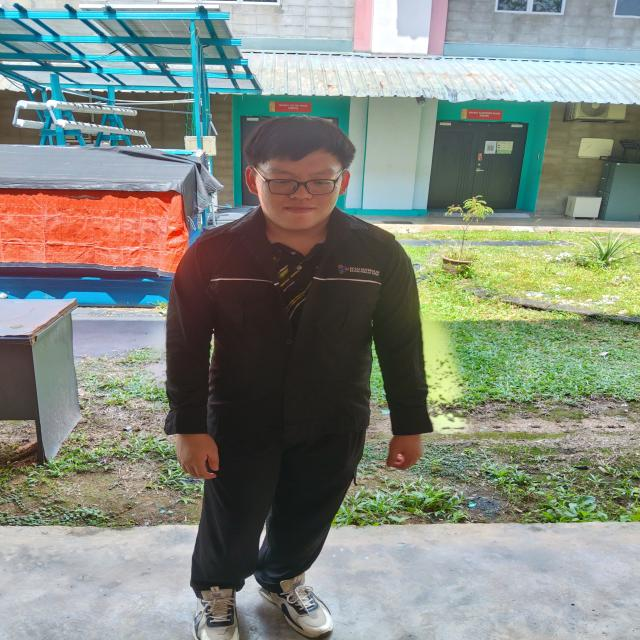person_with_labcoat: (166, 117, 433, 640)
